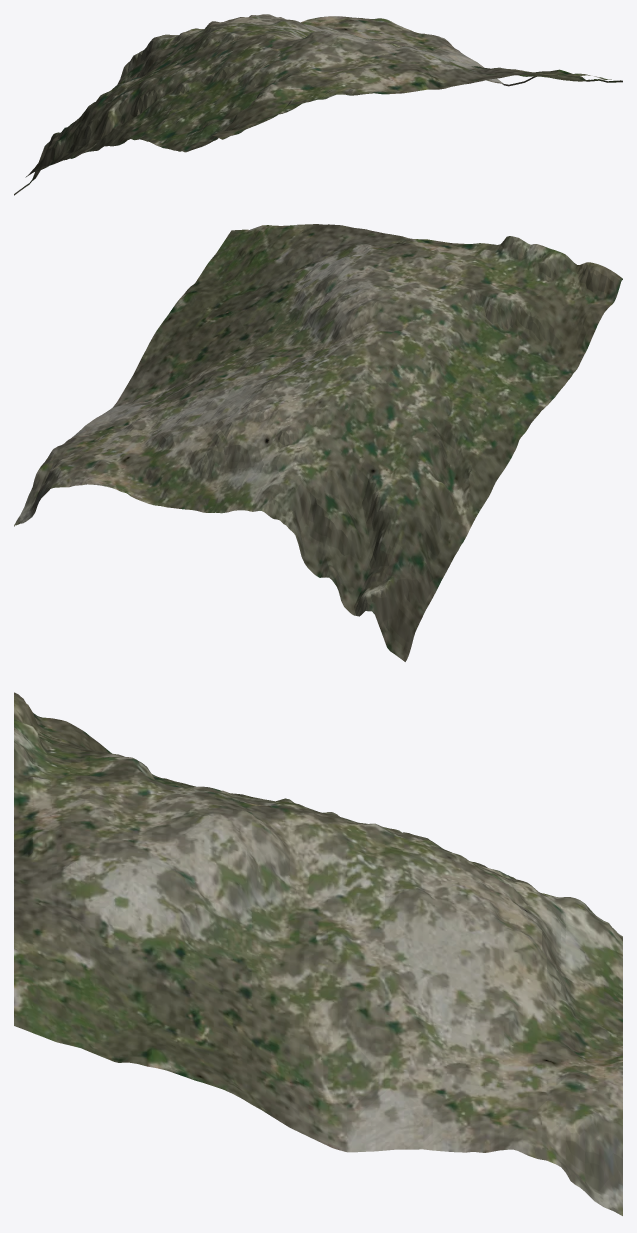
The picture shows the model from 3 angles, top to bottom: view 1: azimuth 30°, elevation 25°; view 2: azimuth 150°, elevation 25°; view 3: azimuth 270°, elevation 25°; orthographic projection. The views are drawn at different scales.
Bounding box in the file's own units: 250 × 147 × 241.
Materials: 1 (1 with a texture image).
